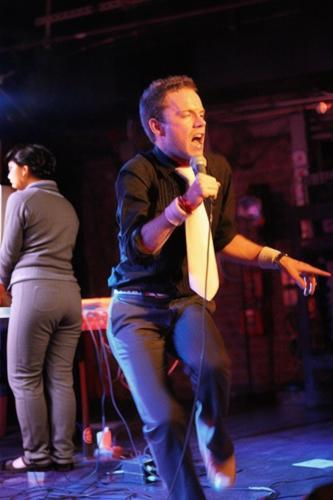cat: (1, 140, 82, 471)
person: (103, 66, 333, 500)
person/foot: (204, 453, 236, 491)
person/hand: (280, 256, 331, 296), (177, 173, 222, 211)
person/head: (139, 75, 207, 158)
